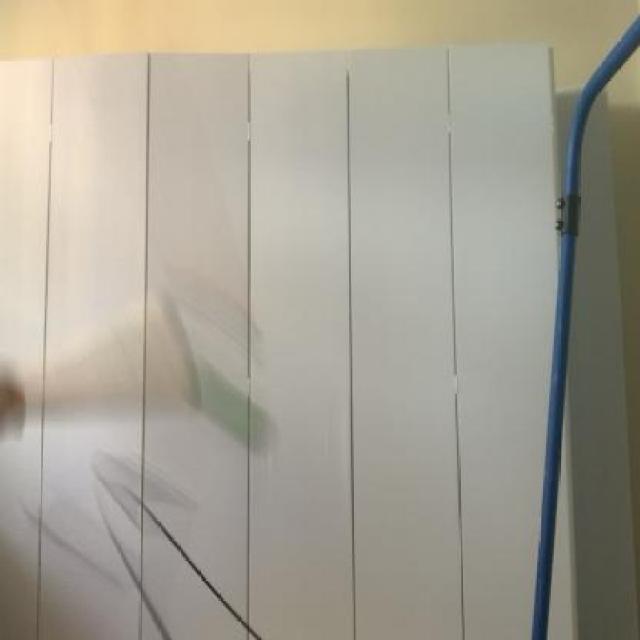baseball: (168, 355, 289, 468)
